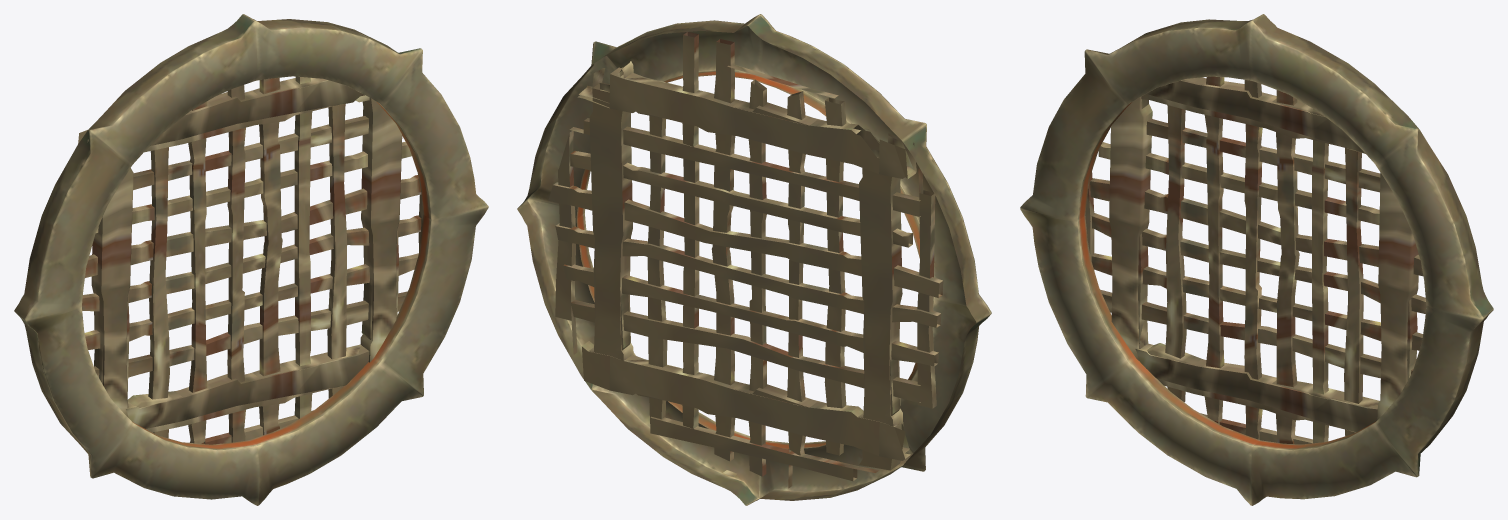
Rendered from Grate_Round_B.fbx.
3 views of the same model, side by side, from view 1: azimuth 30°, elevation 25°; view 2: azimuth 150°, elevation 25°; view 3: azimuth 330°, elevation 25° (orthographic).
Visible parts, largest first — view 1: Grate_Round_B; view 2: Grate_Round_B; view 3: Grate_Round_B.
Part boxes in pixels (<box>): Grate_Round_B: <box>14,14,488,505</box>; Grate_Round_B: <box>517,14,991,505</box>; Grate_Round_B: <box>1020,14,1493,505</box>.
Size of the model in its own units: 902 by 902 by 61.89.
